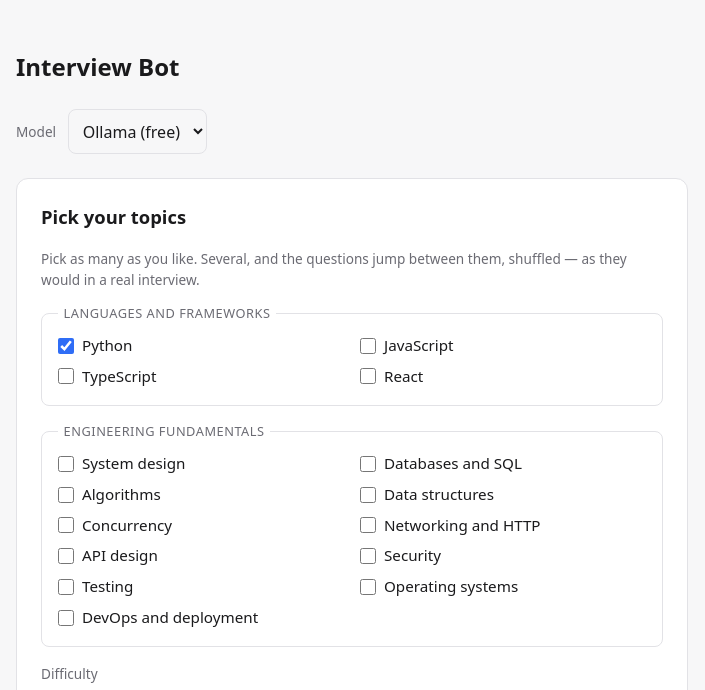
Test: starting an interview › starts one interview over several topics at once
Click the checkbox labelled "Databases and SQL" at (368, 464), box x1=360 y1=456 x2=376 y2=472
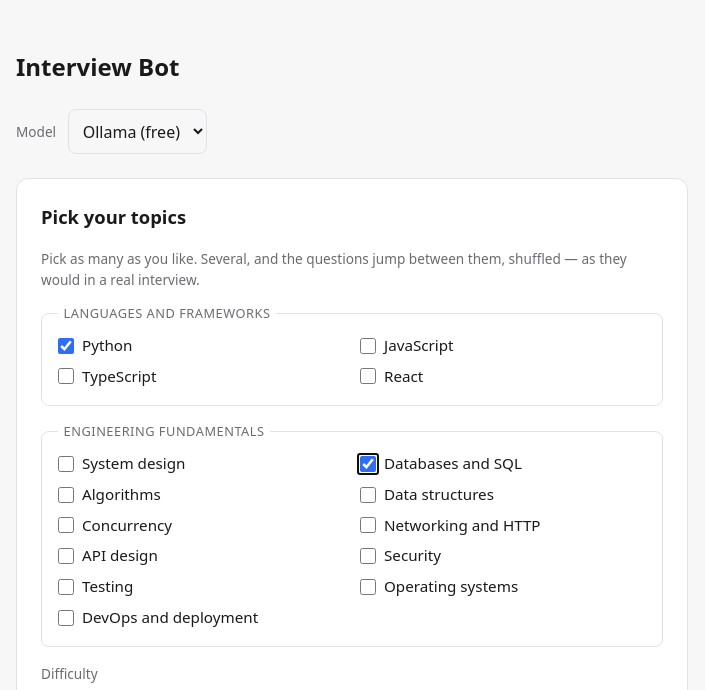
Click the checkbox labelled "System design" at (66, 464), box x1=58 y1=456 x2=74 y2=472
(page scrolled)
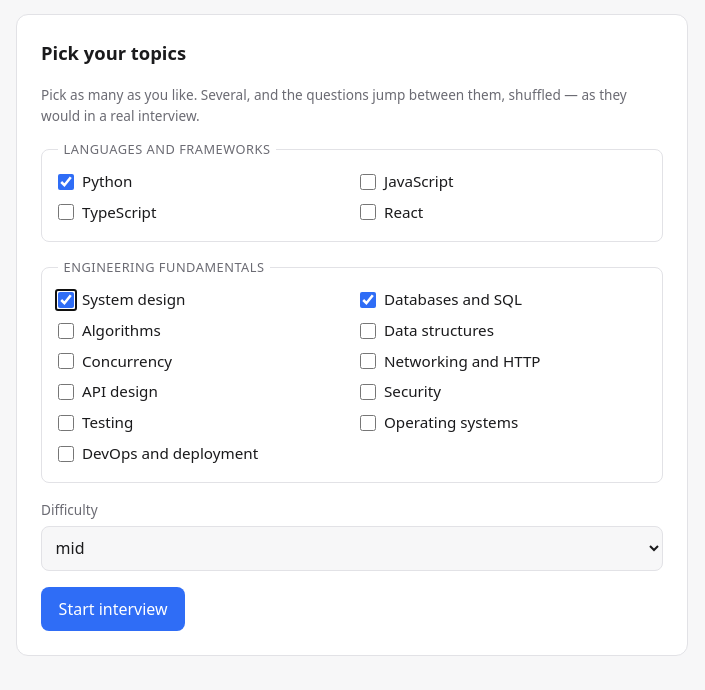
Click the button "Start interview" at (113, 609), box x1=41 y1=587 x2=185 y2=631
(page scrolled)
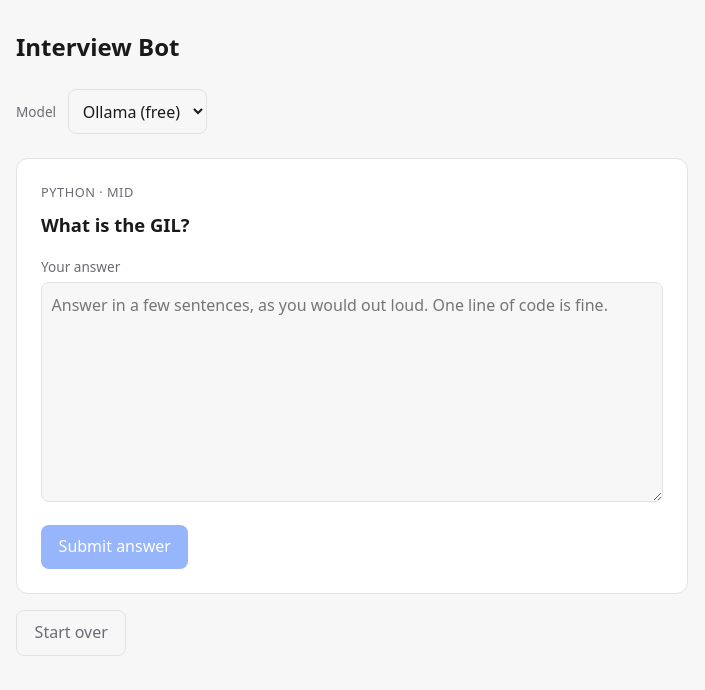
Result: the heading "What is the GIL?" is shown at x1=41 y1=212 x2=190 y2=237
